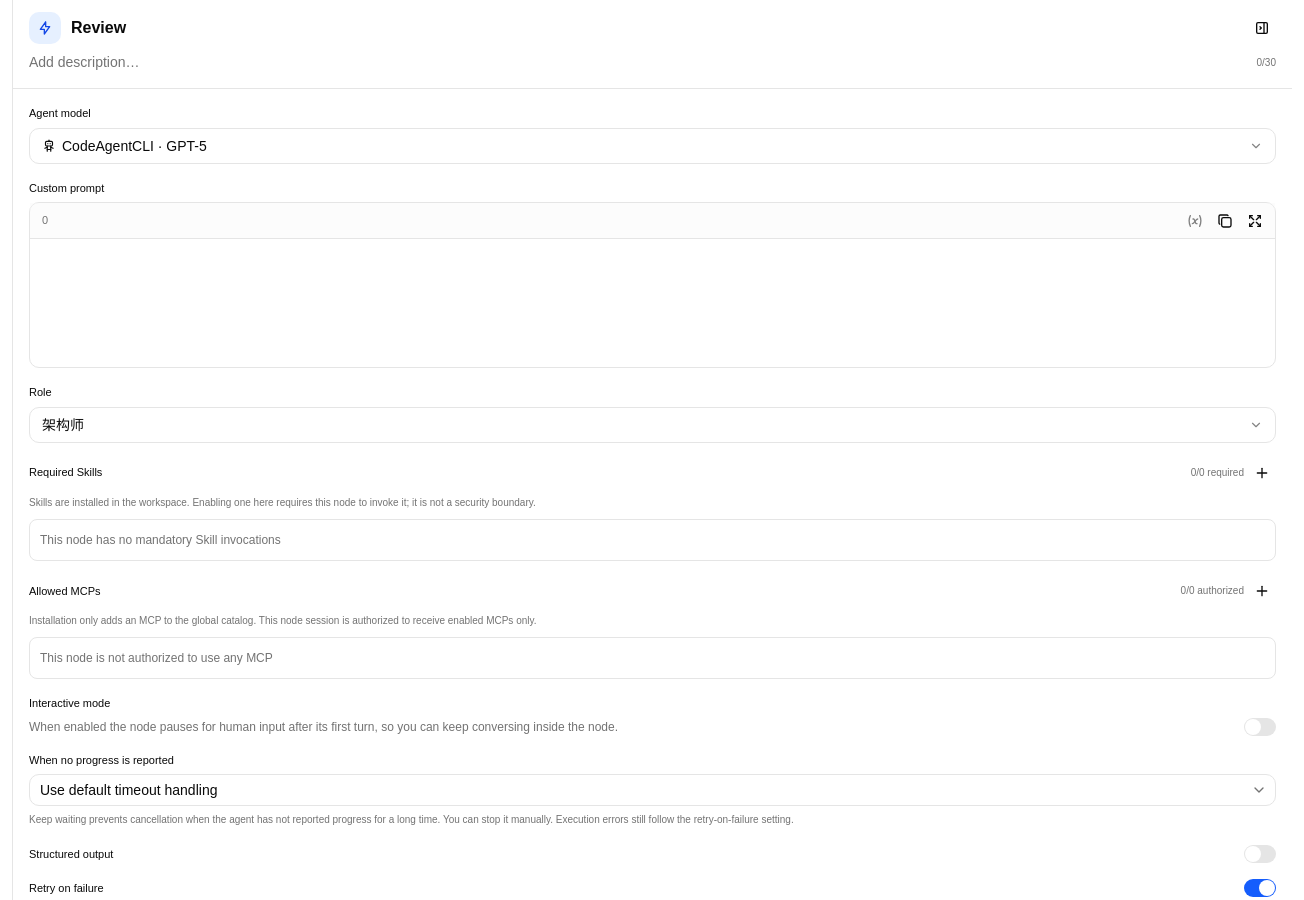
Scenario: Agent retry settings › writes the full policy when switched off and disables both numbers
Click the switch named "Retry on failure" in the row of "Retry on failure": (1260, 888) [1244,879,1276,897]
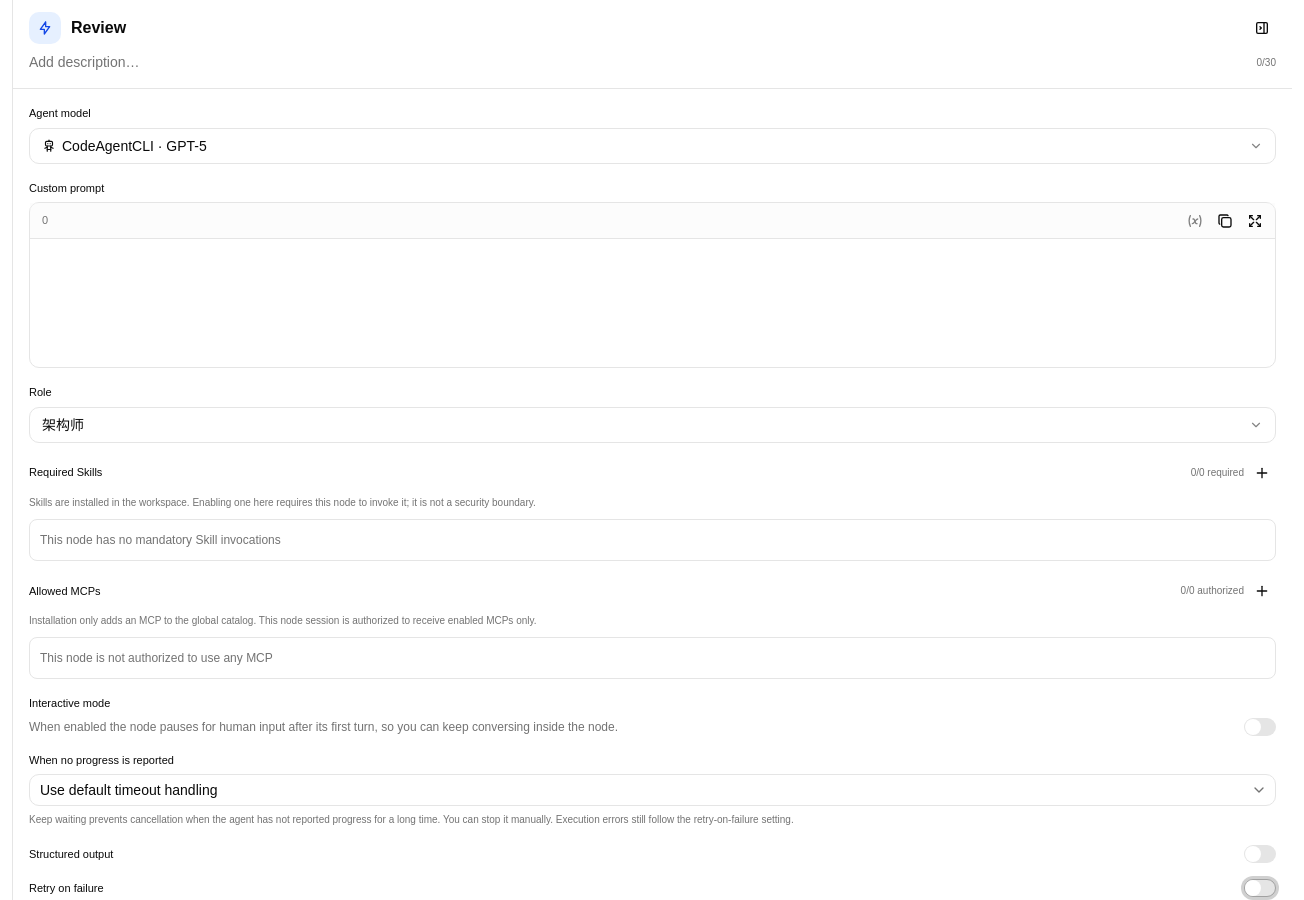
Expected: the switch named "Retry on failure" in the row of "Retry on failure" is not checked
Click the switch named "Retry on failure" in the row of "Retry on failure": (1260, 888) [1244,879,1276,897]
(page scrolled)
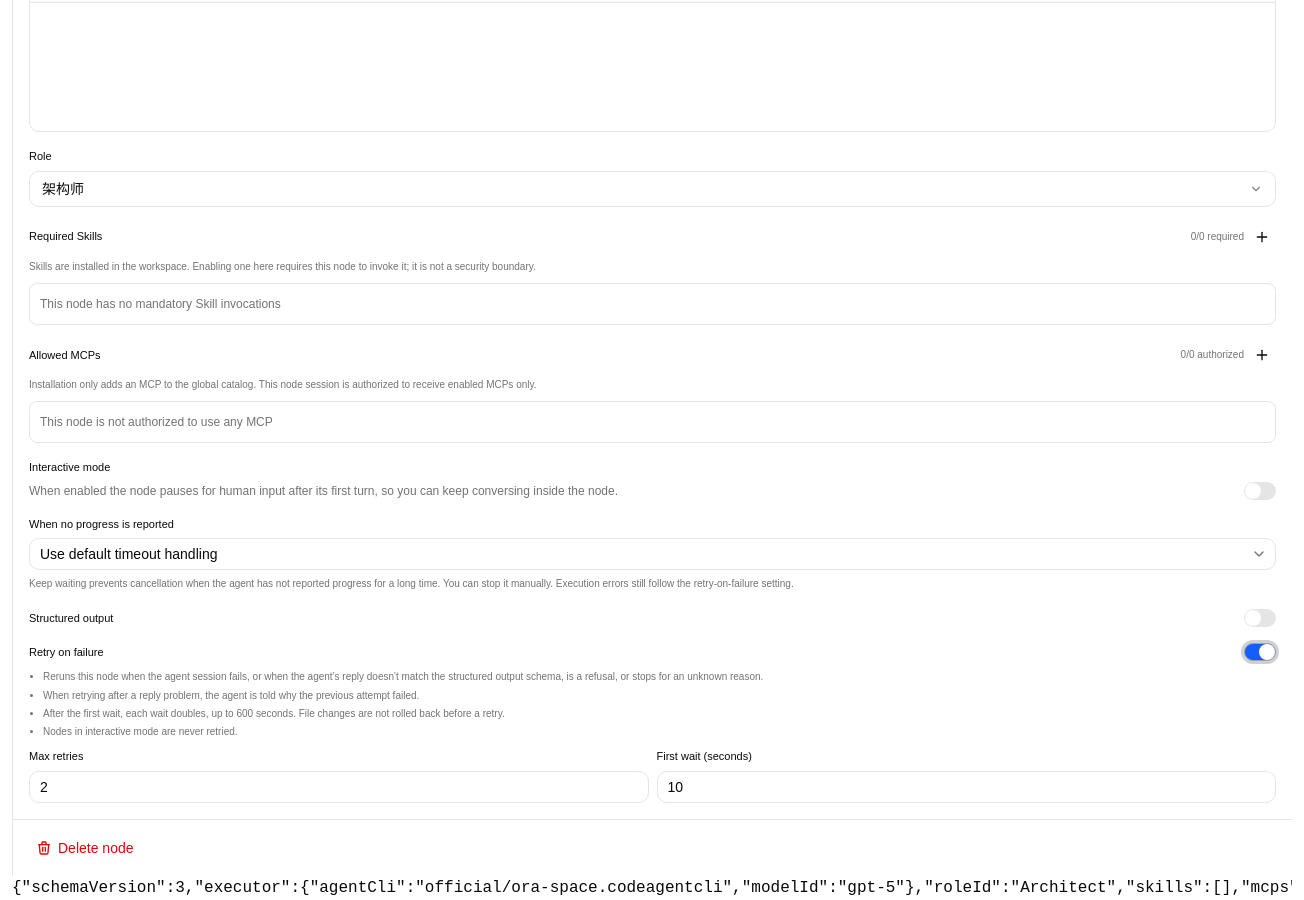
Expected: the number field labelled "Max retries" is enabled, [29,771,648,803]
Expected: the number field labelled "First wait (seconds)" is enabled, [656,771,1276,803]
